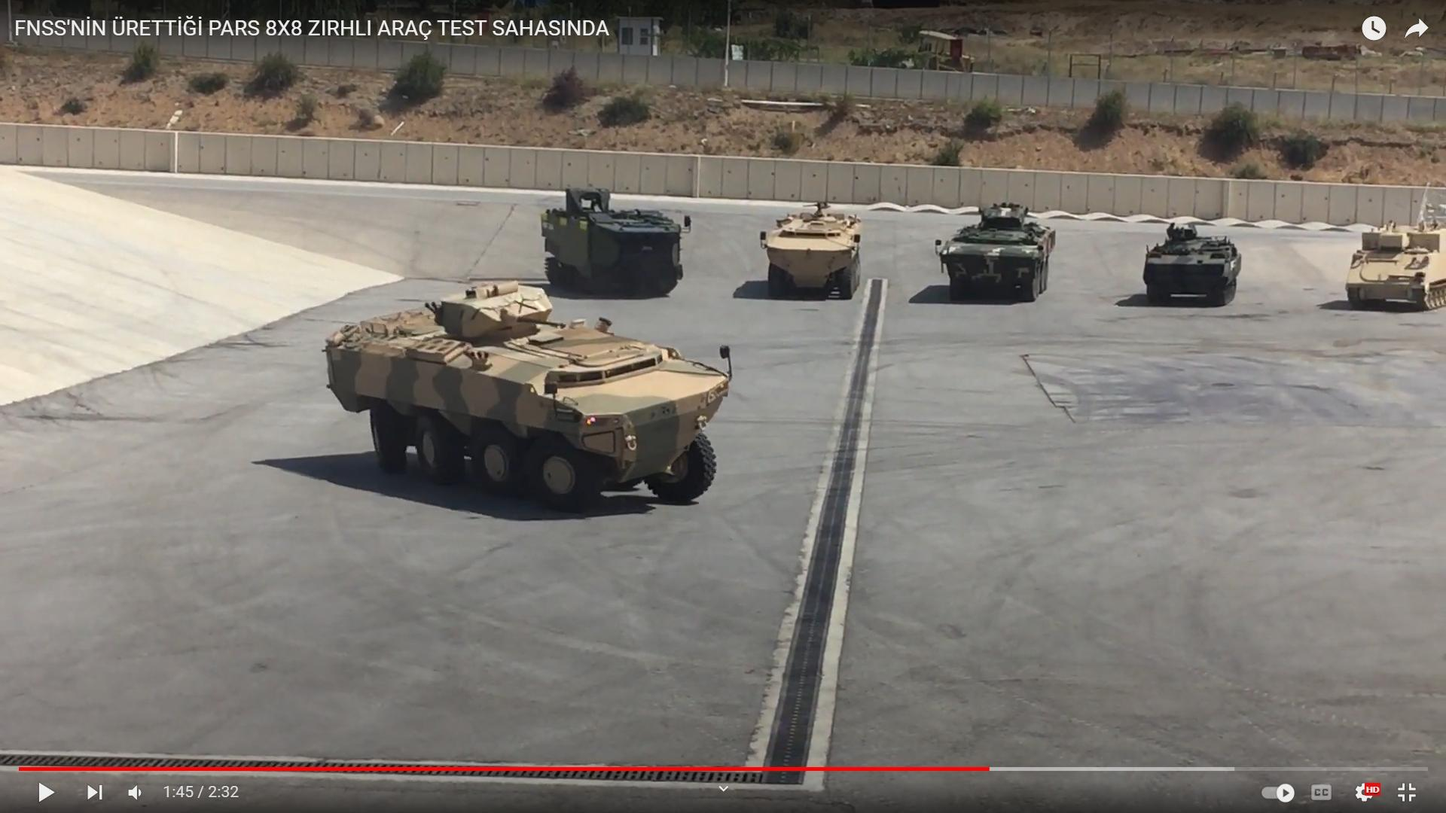armored_car: (323, 280, 734, 514), (935, 202, 1059, 304), (762, 201, 865, 301), (1138, 220, 1246, 309), (1345, 227, 1446, 312)
